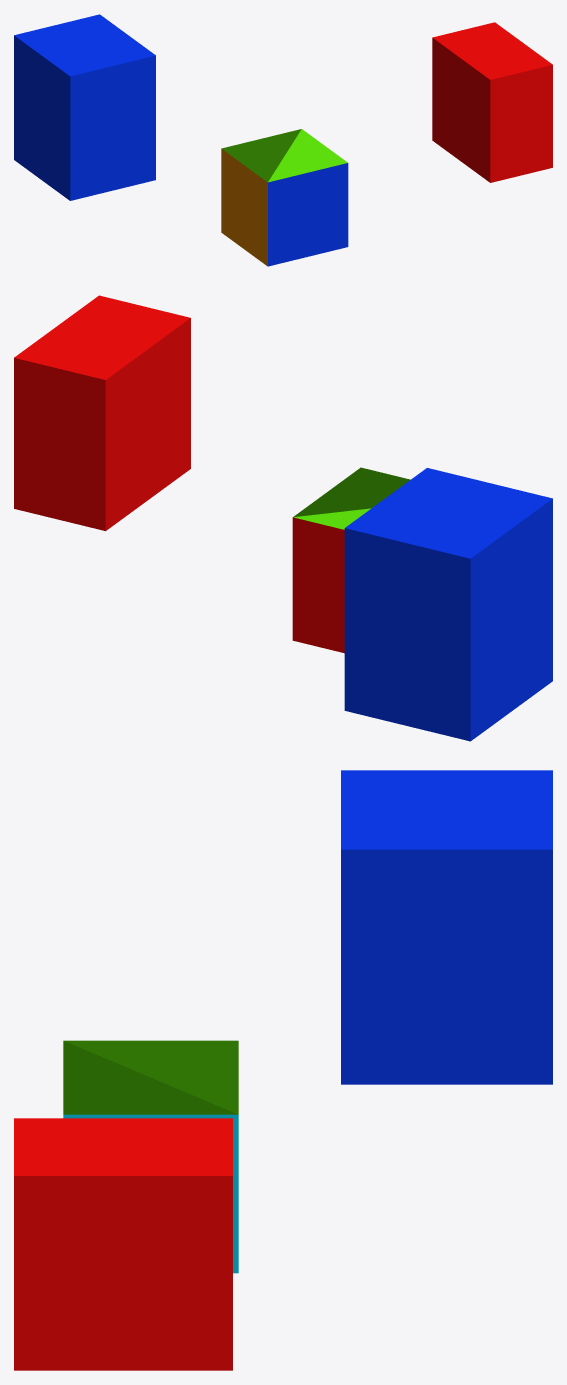
Rendered from 多基元模型测试.glb.
The picture shows the model from 3 angles, top to bottom: view 1: azimuth 30°, elevation 25°; view 2: azimuth 150°, elevation 25°; view 3: azimuth 270°, elevation 25°; orthographic projection. The views are drawn at different scales.
Visible parts, largest first — view 1: 立方体.001, 立方体, Cube.001; view 2: 立方体.001, 立方体, Cube.001; view 3: 立方体.001, 立方体, Cube.001.
Boxes of the visible parts, box(x1,y1,x2,y2) form: 立方体.001: box(14, 14, 155, 200); 立方体: box(432, 22, 552, 182); Cube.001: box(221, 129, 348, 266); 立方体.001: box(344, 468, 552, 741); 立方体: box(14, 295, 190, 531); Cube.001: box(292, 467, 410, 653); 立方体.001: box(341, 770, 552, 1084); 立方体: box(14, 1118, 232, 1370); Cube.001: box(63, 1040, 238, 1273).
Size of the model in its own units: 9.85 by 3.96 by 6.15.
